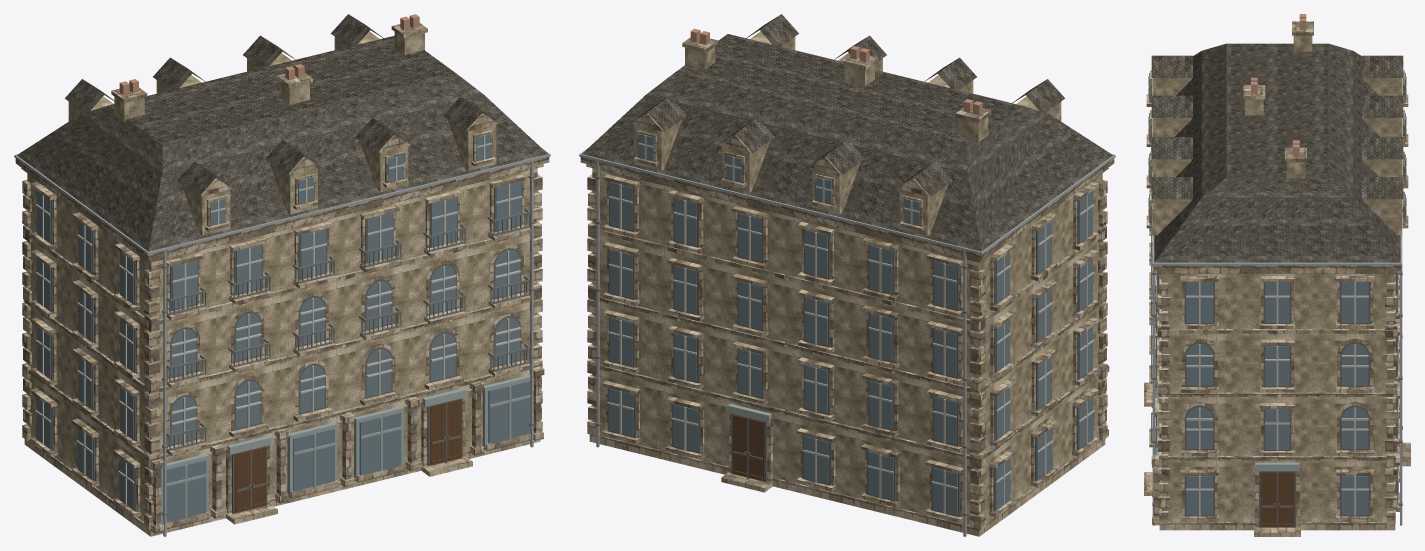
File: tenement.glb
3 views of the same model, side by side, from view 1: azimuth 30°, elevation 25°; view 2: azimuth 150°, elevation 25°; view 3: azimuth 270°, elevation 25° (orthographic). The views are drawn at different scales.
Parts seen in each view (by area): view 1: ashlar, roof, trim, glass, dark, iron, window_frame, shop_frame, zinc, wood, terracotta; view 2: ashlar, roof, trim, glass, dark, window_frame, zinc, wood, terracotta; view 3: roof, ashlar, trim, glass, dark, window_frame, zinc, wood, iron, shop_frame, terracotta.
Part boxes in pixels (bbox=[...]): ashlar: bbox=[27, 31, 537, 521]; roof: bbox=[17, 14, 547, 251]; trim: bbox=[15, 23, 549, 536]; glass: bbox=[36, 133, 529, 522]; dark: bbox=[36, 181, 522, 513]; iron: bbox=[162, 176, 534, 515]; window_frame: bbox=[35, 135, 522, 505]; shop_frame: bbox=[161, 375, 530, 523]; zinc: bbox=[14, 147, 550, 536]; wood: bbox=[234, 399, 461, 512]; terracotta: bbox=[119, 14, 419, 95]; ashlar: bbox=[592, 31, 1102, 525]; roof: bbox=[582, 14, 1112, 251]; trim: bbox=[580, 37, 1114, 536]; glass: bbox=[608, 133, 1093, 515]; dark: bbox=[607, 181, 1093, 516]; window_frame: bbox=[607, 135, 1094, 513]; zinc: bbox=[579, 147, 1115, 536]; wood: bbox=[732, 415, 764, 480]; terracotta: bbox=[690, 28, 982, 115]; roof: bbox=[1151, 43, 1403, 262]; ashlar: bbox=[1152, 35, 1402, 521]; trim: bbox=[1144, 21, 1410, 536]; glass: bbox=[1149, 73, 1405, 515]; dark: bbox=[1157, 273, 1399, 528]; window_frame: bbox=[1148, 76, 1406, 516]; zinc: bbox=[1152, 235, 1402, 525]; wood: bbox=[1260, 472, 1294, 526]; iron: bbox=[1151, 147, 1402, 505]; shop_frame: bbox=[1155, 328, 1299, 471]; terracotta: bbox=[1251, 14, 1306, 156].
Bounding box in the file's own units: 19.15 × 17.15 × 11.52.
Materials: 11 (4 with a texture image).
